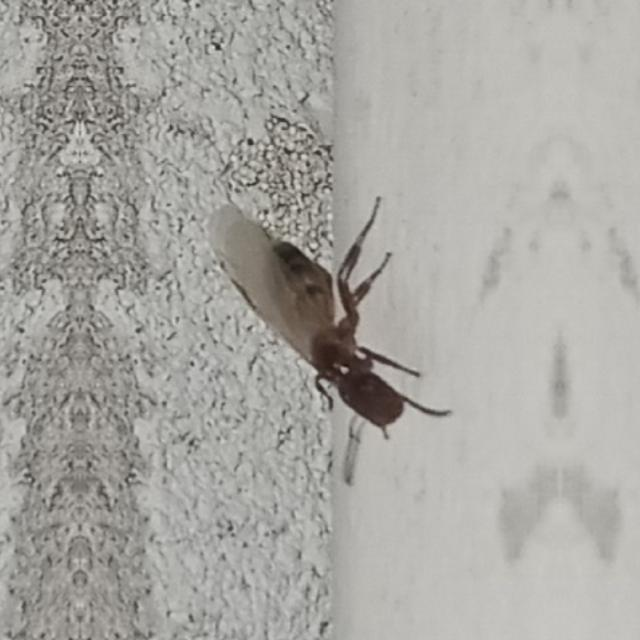Colobopsis: (238, 192, 444, 458)
